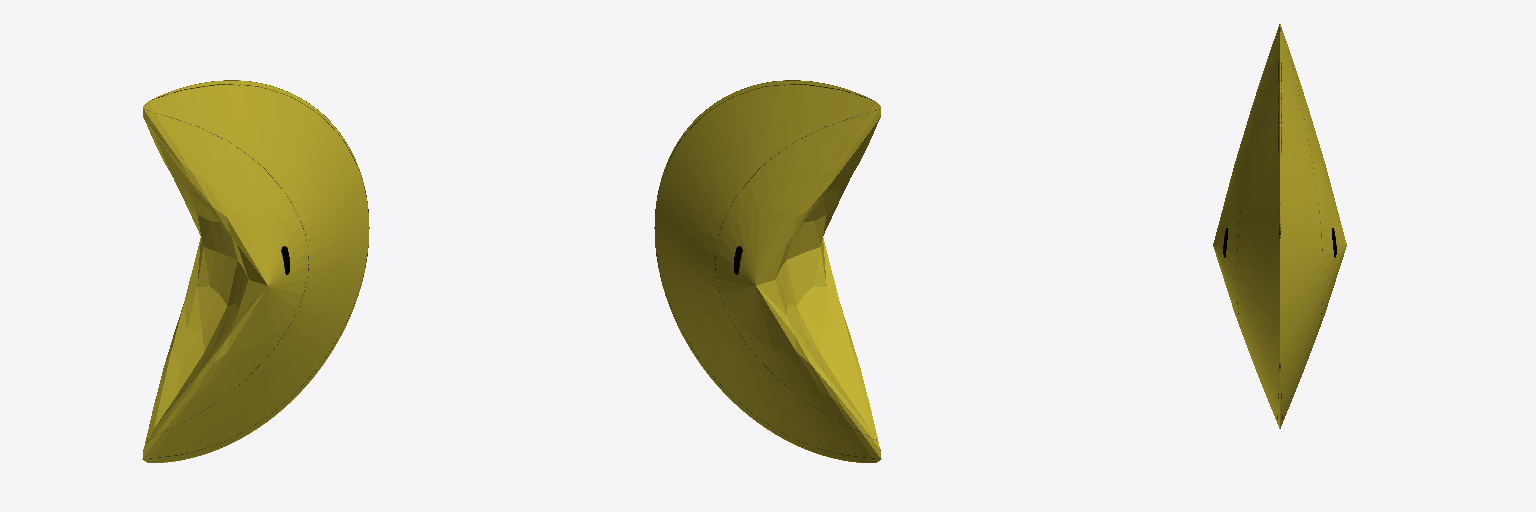
The picture shows the model from 3 angles: view 1: azimuth 30°, elevation 25°; view 2: azimuth 150°, elevation 25°; view 3: azimuth 270°, elevation 25°; orthographic projection.
Size of the model in its own units: 1.27 by 1.99 by 0.6473.
1 materials, 1 textured.